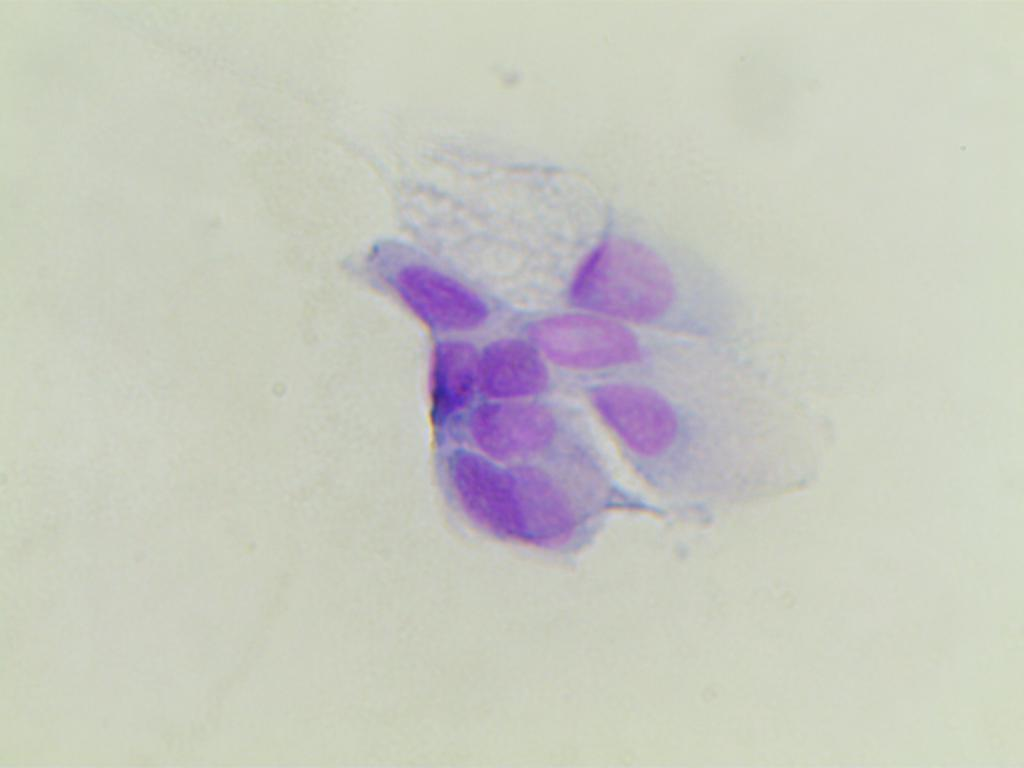epithelial: (441, 443, 570, 547), (377, 252, 499, 337), (466, 397, 564, 461), (426, 323, 489, 416), (483, 341, 552, 405)
goblet_cell: (574, 369, 848, 519), (471, 200, 690, 301), (532, 313, 718, 368)
